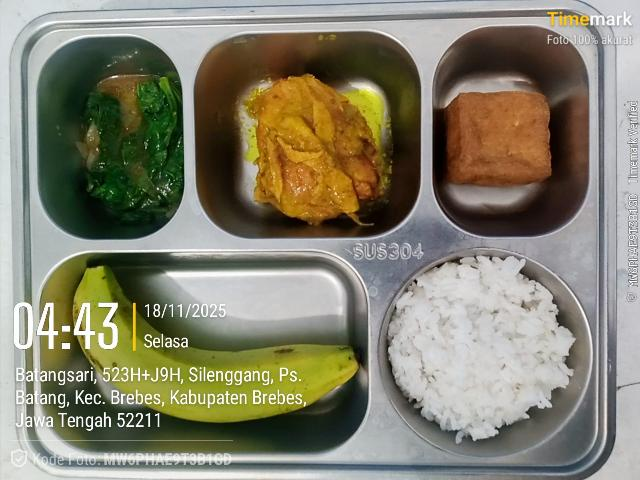ayam: (247, 74, 380, 224)
buah: (73, 266, 358, 422), (388, 256, 575, 443)
nasi: (388, 256, 575, 443)
sayur: (76, 73, 184, 223)
tahu: (445, 91, 551, 186)
